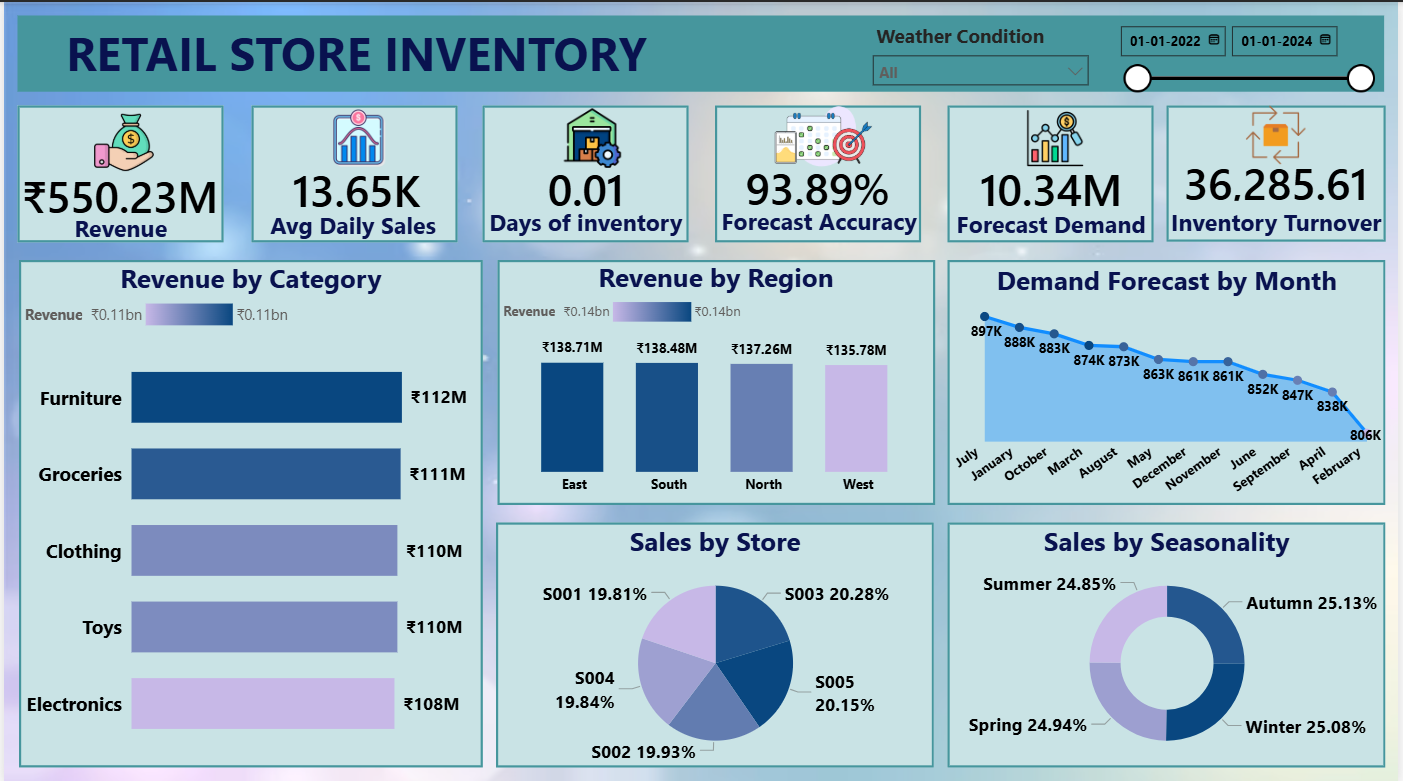

What the dashboard file says about the page in this screenshot:
{"tool":"powerbi","page":{"name":"Page 1","canvas":[1280,720],"ordinal":0},"visuals":[{"type":"shape","box":[12.2,12.2,1255.1,70.2],"z":0},{"type":"shape","box":[12.1,95.4,189.3,125.7],"z":1000},{"type":"shape","box":[226.8,94.6,189.3,125.7],"z":2000},{"type":"shape","box":[440,94.6,189.3,125.7],"z":3000},{"type":"shape","box":[653.2,94.6,189.3,125.7],"z":4000},{"type":"shape","box":[866.4,94.6,189.3,125.7],"z":5000},{"type":"shape","box":[1067.5,94.6,201.3,125.1],"z":6000},{"type":"shape","box":[14.4,237,426,466],"z":7000},{"type":"shape","box":[453.2,236.9,402,225],"z":8000},{"type":"shape","box":[866.5,236.9,402.3,225],"z":9000},{"type":"shape","box":[451.8,478,402.3,225],"z":10000},{"type":"shape","box":[866.5,478,402.3,225],"z":11000},{"type":"textbox","box":[35.8,12.4,575.8,70.3],"z":12000},{"type":"card","fields":{"Values":["Table.Revenue"]},"box":[5.5,154.3,201.1,45.5],"z":13000},{"type":"card","fields":{"Values":["Table.Average Daily Sales"]},"box":[228.7,148.8,188.7,45.5],"z":14000},{"type":"card","fields":{"Values":["Table.Days of Inventory (DOI)"]},"box":[439.1,148.4,189.3,43.9],"z":15000},{"type":"card","fields":{"Values":["Table.Forecasted Demand"]},"box":[866.1,146.9,189.3,46.9],"z":16000},{"type":"card","fields":{"Values":["Table.Inventory Turnover Ratio"]},"box":[1066,143.4,202.8,44.2],"z":17000},{"type":"barChart","fields":{"Y":["Table.Revenue"],"Category":["retail_store_inventory.Category"]},"box":[14.4,237,426,466],"z":18000},{"type":"columnChart","fields":{"Y":["Table.Revenue"],"Category":["retail_store_inventory.Region"]},"box":[452.7,236.2,401.3,225.6],"z":19000},{"type":"areaChart","title":"Demand Forecast by Month","fields":{"Category":["retail_store_inventory.Month"],"Y":["Sum(retail_store_inventory.Demand Forecast)"]},"box":[866.1,237.7,402.8,224.1],"z":20000},{"type":"pieChart","title":"Sales by Store","fields":{"Y":["Sum(retail_store_inventory.Units Sold)"],"Category":["retail_store_inventory.Store ID"]},"box":[451.4,477.3,402.6,225.7],"z":21000},{"type":"donutChart","title":"Sales by Seasonality","fields":{"Y":["Sum(retail_store_inventory.Units Sold)"],"Category":["retail_store_inventory.Seasonality"]},"box":[866.2,477.3,402.6,225.7],"z":22000},{"type":"slicer","fields":{"Values":["retail_store_inventory.Date"]},"box":[1012.6,12.2,254.7,82.4],"z":23000},{"type":"card","fields":{"Values":["Table.Forecast Accuracy (%)"]},"box":[652.6,146.9,187.8,45.4],"z":24000},{"type":"image","box":[45.4,92.4,128.7,72.7],"z":25000},{"type":"textbox","box":[39.4,187.8,134.8,51.5],"z":26000},{"type":"textbox","box":[1066,181.5,204.4,56.4],"z":27000},{"type":"textbox","box":[852.5,183,218.1,50.3],"z":28000},{"type":"textbox","box":[642,180,213.5,56.4],"z":29000},{"type":"textbox","box":[420.9,181.7,225.6,43.9],"z":30000},{"type":"textbox","box":[225.6,184.7,189.3,43.9],"z":31000},{"type":"image","box":[280.1,92.4,93.9,65.1],"z":32000},{"type":"image","box":[490.6,92.4,99.9,65.1],"z":33000},{"type":"image","box":[917.6,92.4,95.4,65.1],"z":34000},{"type":"image","box":[652.6,87.8,187.8,69.7],"z":35000},{"type":"image","box":[1119,89.3,98.4,65.1],"z":36000},{"type":"slicer","fields":{"Values":["retail_store_inventory.Weather Condition"]},"box":[787.4,13.6,218,68.1],"z":37000}]}

Visuals, with their boxes in screenshot pixels (x1, y1, x2, y2), scaled from the page's 1280x720 canvas onto the 1403x781 screenshot:
shape: l=13, t=13, r=1389, b=89
shape: l=13, t=103, r=221, b=240
shape: l=249, t=103, r=456, b=239
shape: l=482, t=103, r=690, b=239
shape: l=716, t=103, r=923, b=239
shape: l=950, t=103, r=1157, b=239
shape: l=1170, t=103, r=1391, b=238
shape: l=16, t=257, r=483, b=763
shape: l=497, t=257, r=937, b=501
shape: l=950, t=257, r=1391, b=501
shape: l=495, t=518, r=936, b=763
shape: l=950, t=518, r=1391, b=763
textbox: l=39, t=13, r=670, b=90
card - Table.Revenue: l=6, t=167, r=226, b=217
card - Table.Average Daily Sales: l=251, t=161, r=458, b=211
card - Table.Days of Inventory (DOI): l=481, t=161, r=689, b=209
card - Table.Forecasted Demand: l=949, t=159, r=1157, b=210
card - Table.Inventory Turnover Ratio: l=1168, t=156, r=1391, b=203
barChart - Table.Revenue x retail_store_inventory.Category: l=16, t=257, r=483, b=763
columnChart - Table.Revenue x retail_store_inventory.Region: l=496, t=256, r=936, b=501
"Demand Forecast by Month" areaChart: l=949, t=258, r=1391, b=501
"Sales by Store" pieChart: l=495, t=518, r=936, b=763
"Sales by Seasonality" donutChart: l=949, t=518, r=1391, b=763
slicer - retail_store_inventory.Date: l=1110, t=13, r=1389, b=103
card - Table.Forecast Accuracy (%): l=715, t=159, r=921, b=209
image: l=50, t=100, r=191, b=179
textbox: l=43, t=204, r=191, b=260
textbox: l=1168, t=197, r=1392, b=258
textbox: l=934, t=199, r=1173, b=253
textbox: l=704, t=195, r=938, b=256
textbox: l=461, t=197, r=709, b=245
textbox: l=247, t=200, r=455, b=248
image: l=307, t=100, r=410, b=171
image: l=538, t=100, r=647, b=171
image: l=1006, t=100, r=1110, b=171
image: l=715, t=95, r=921, b=171
image: l=1227, t=97, r=1334, b=167
slicer - retail_store_inventory.Weather Condition: l=863, t=15, r=1102, b=89
